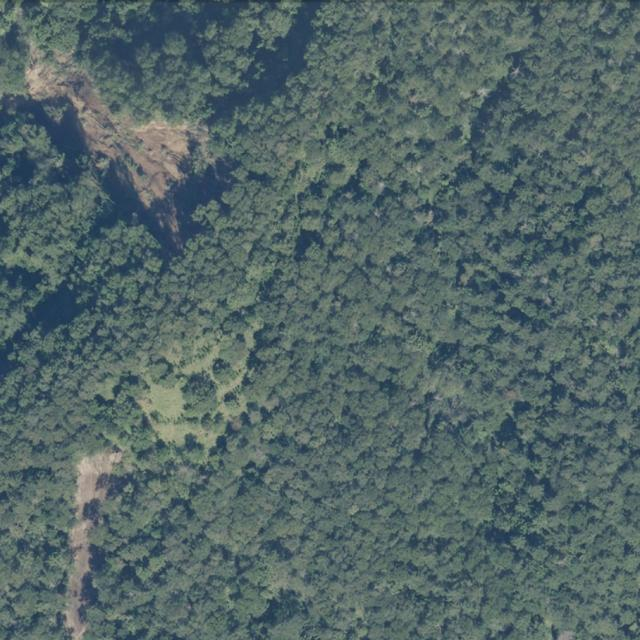landslide: (24, 41, 218, 249), (63, 450, 121, 640)
